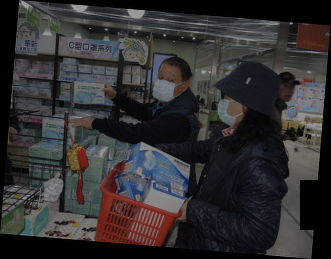with_mask: (152, 70, 183, 104), (216, 92, 241, 128)
without_mask: (278, 82, 295, 103)
